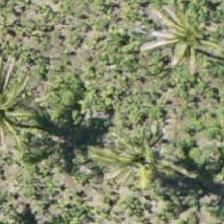coconut_tree: (98, 117, 188, 207), (135, 0, 223, 85)
